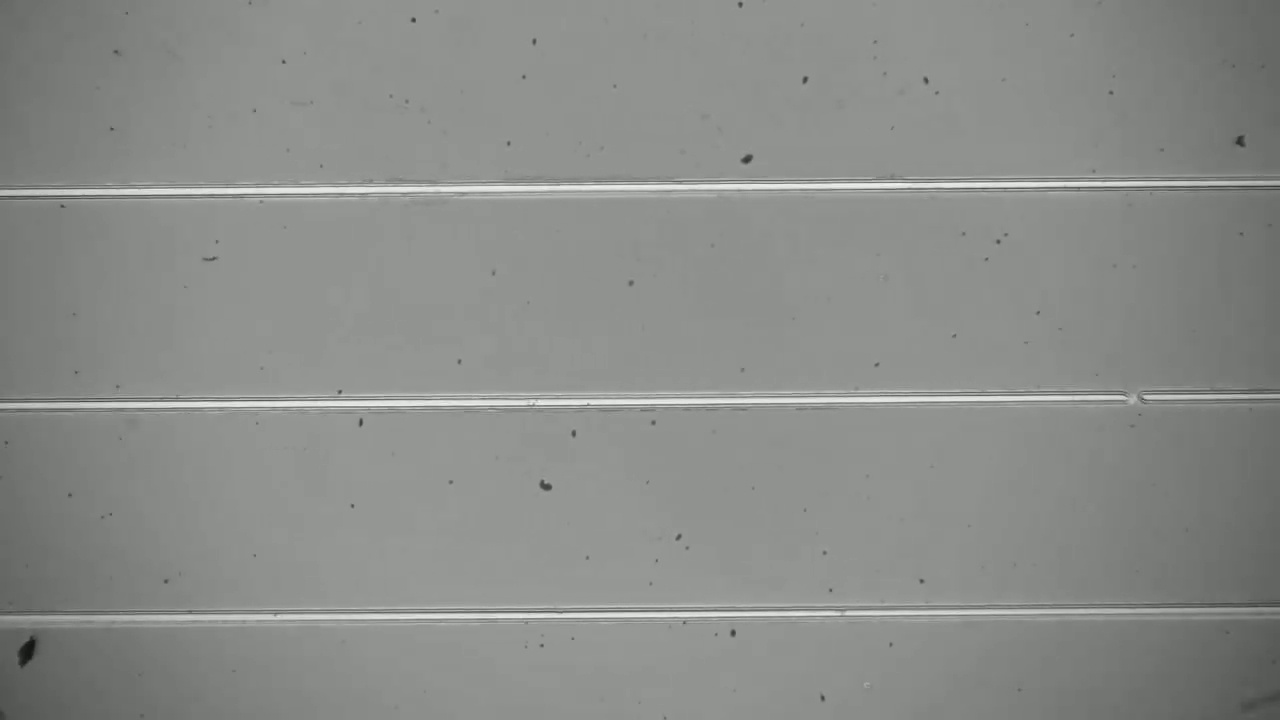open: (1108, 377, 1155, 423)
